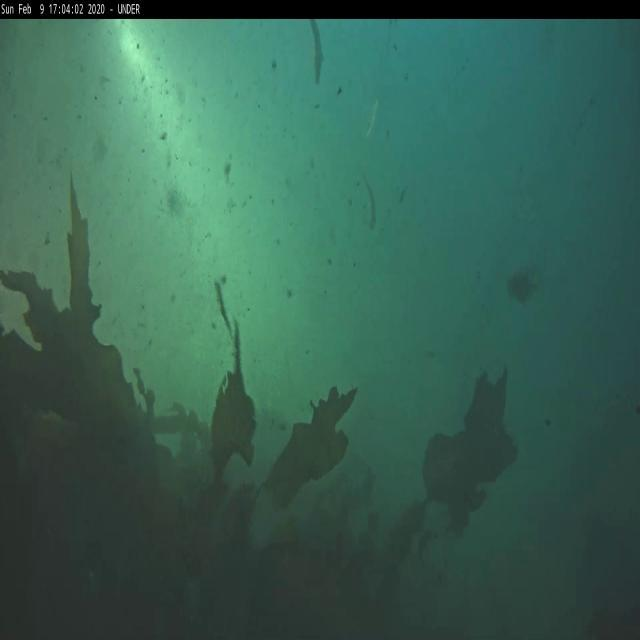fish: (306, 20, 322, 90), (364, 174, 376, 233)
